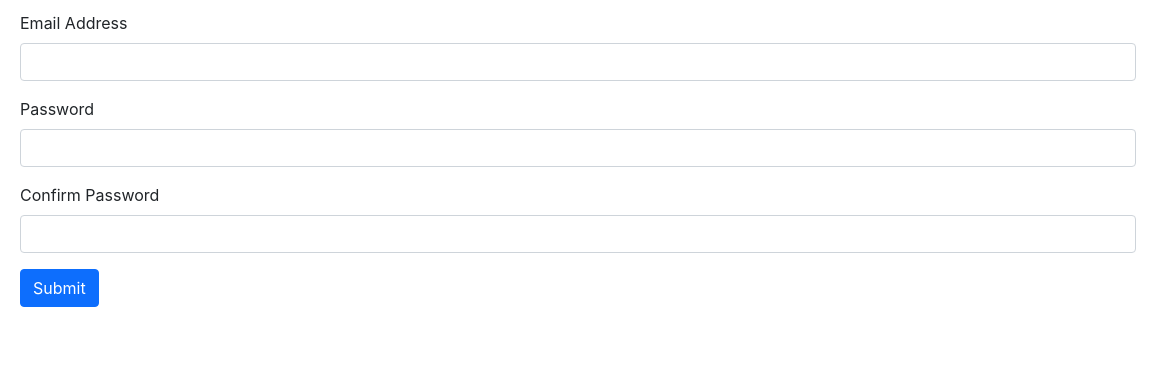
Test: App › Error handling › should show password error message with 5 characters or less
Type "selena@gmail.com" into the field labelled "Email Address" at (578, 62), box [20, 43, 1136, 81]
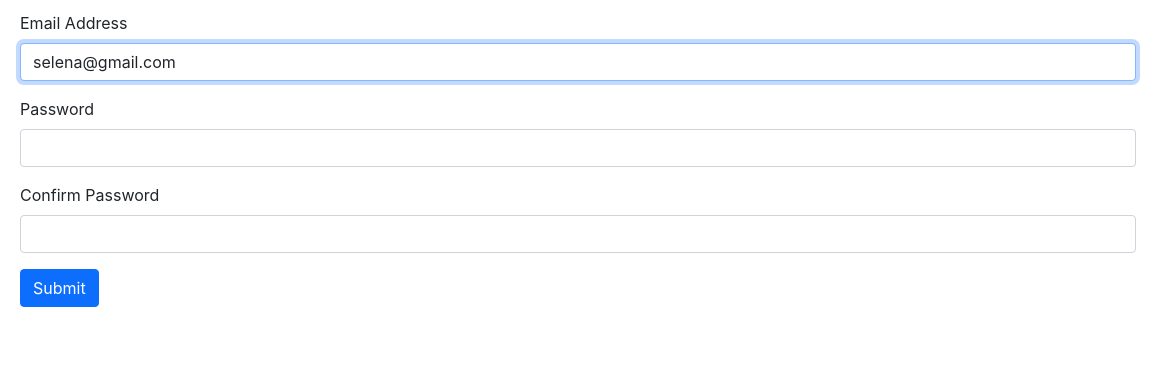
Type "fail" into the password field labelled "Password" at (578, 148), box [20, 129, 1136, 167]
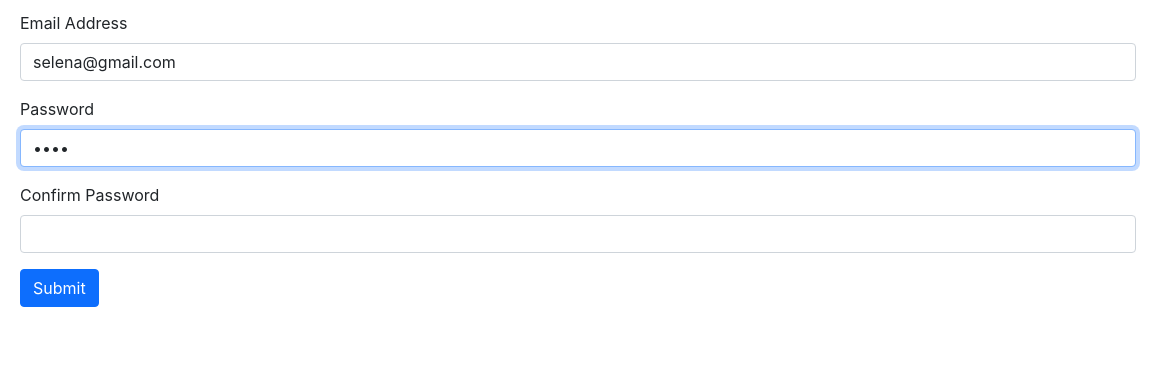
Click the button "Submit" at (59, 288), box [20, 269, 99, 307]
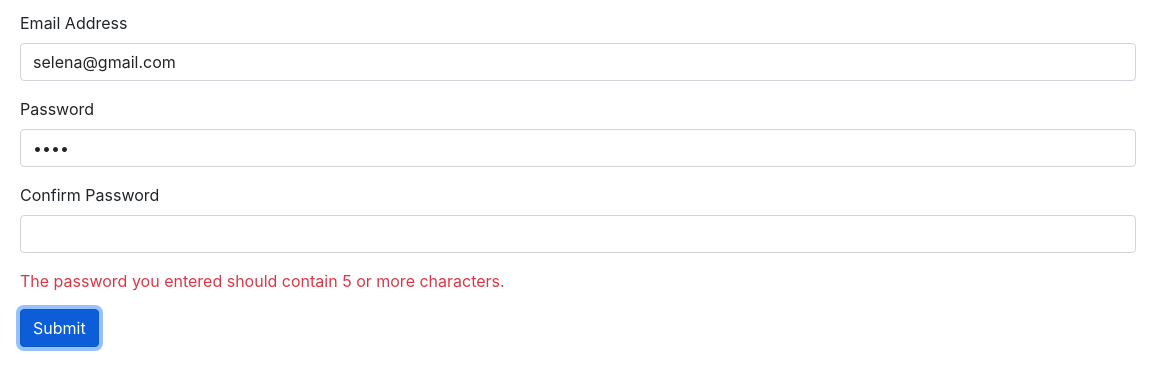
Check: the text "The password you entered should contain 5 or more characters." is shown, box [20, 271, 505, 291]
